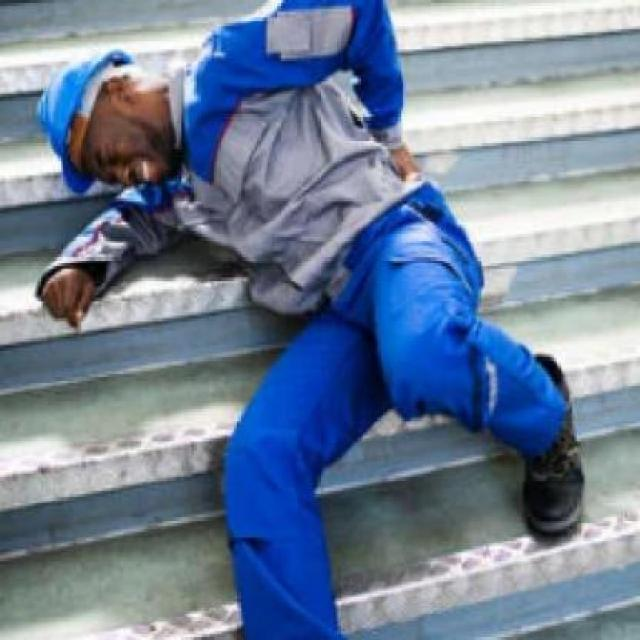fall: (40, 0, 585, 637)
